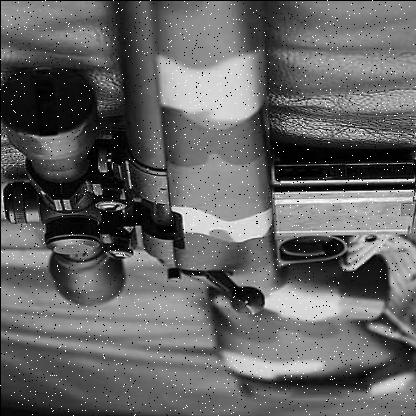rifle: (4, 1, 416, 406)
